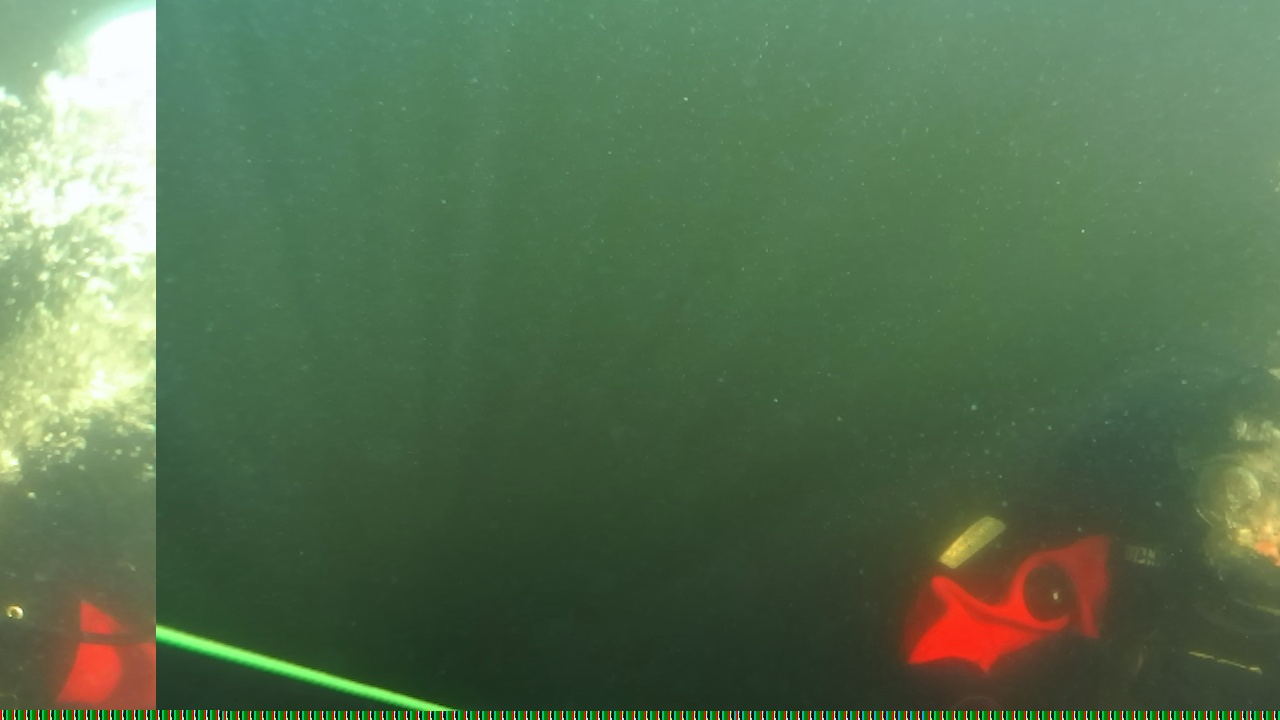Diver: (912, 352, 1276, 708)
Head: (1182, 366, 1272, 626)
